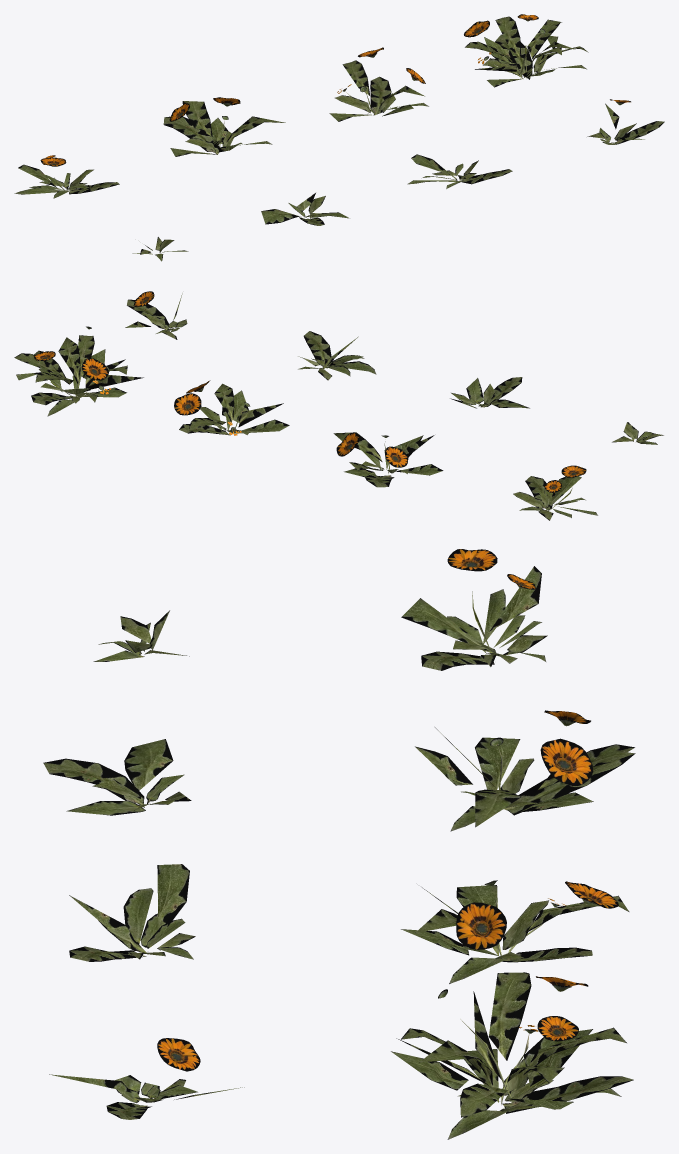
File: flower_gazania.glb
3 renders of one model, top to bottom at view 1: azimuth 30°, elevation 25°; view 2: azimuth 150°, elevation 25°; view 3: azimuth 270°, elevation 25°, orthographic. The views are drawn at different scales.
Parts seen in each view (by area): view 1: flower_gazania_a_LOD0; view 2: flower_gazania_a_LOD0; view 3: flower_gazania_a_LOD0.
Boxes of the visible parts, x1,y1,x2,y2 form: flower_gazania_a_LOD0: [14, 14, 664, 261]; flower_gazania_a_LOD0: [14, 291, 663, 520]; flower_gazania_a_LOD0: [43, 549, 635, 1139].
Bounding box in the file's own units: 1.48 × 0.1546 × 0.6734.
Materials: 1 (1 with a texture image).
